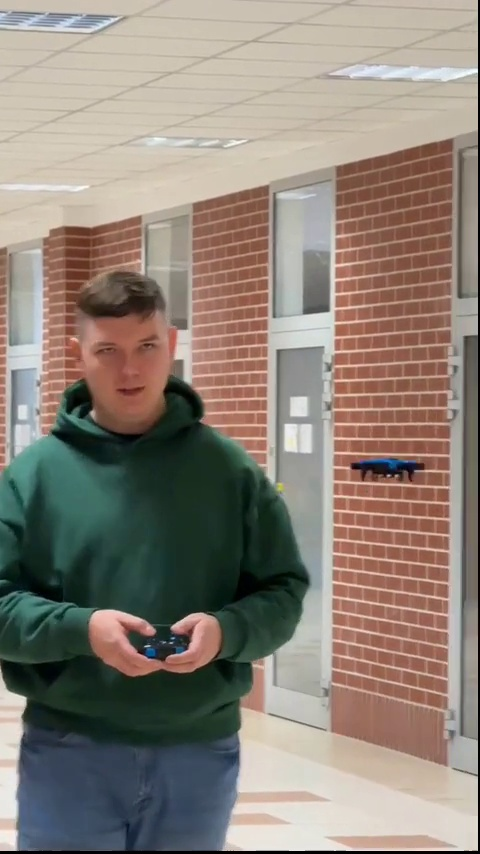drone: (353, 453, 427, 485)
no vest: (3, 265, 311, 832)
